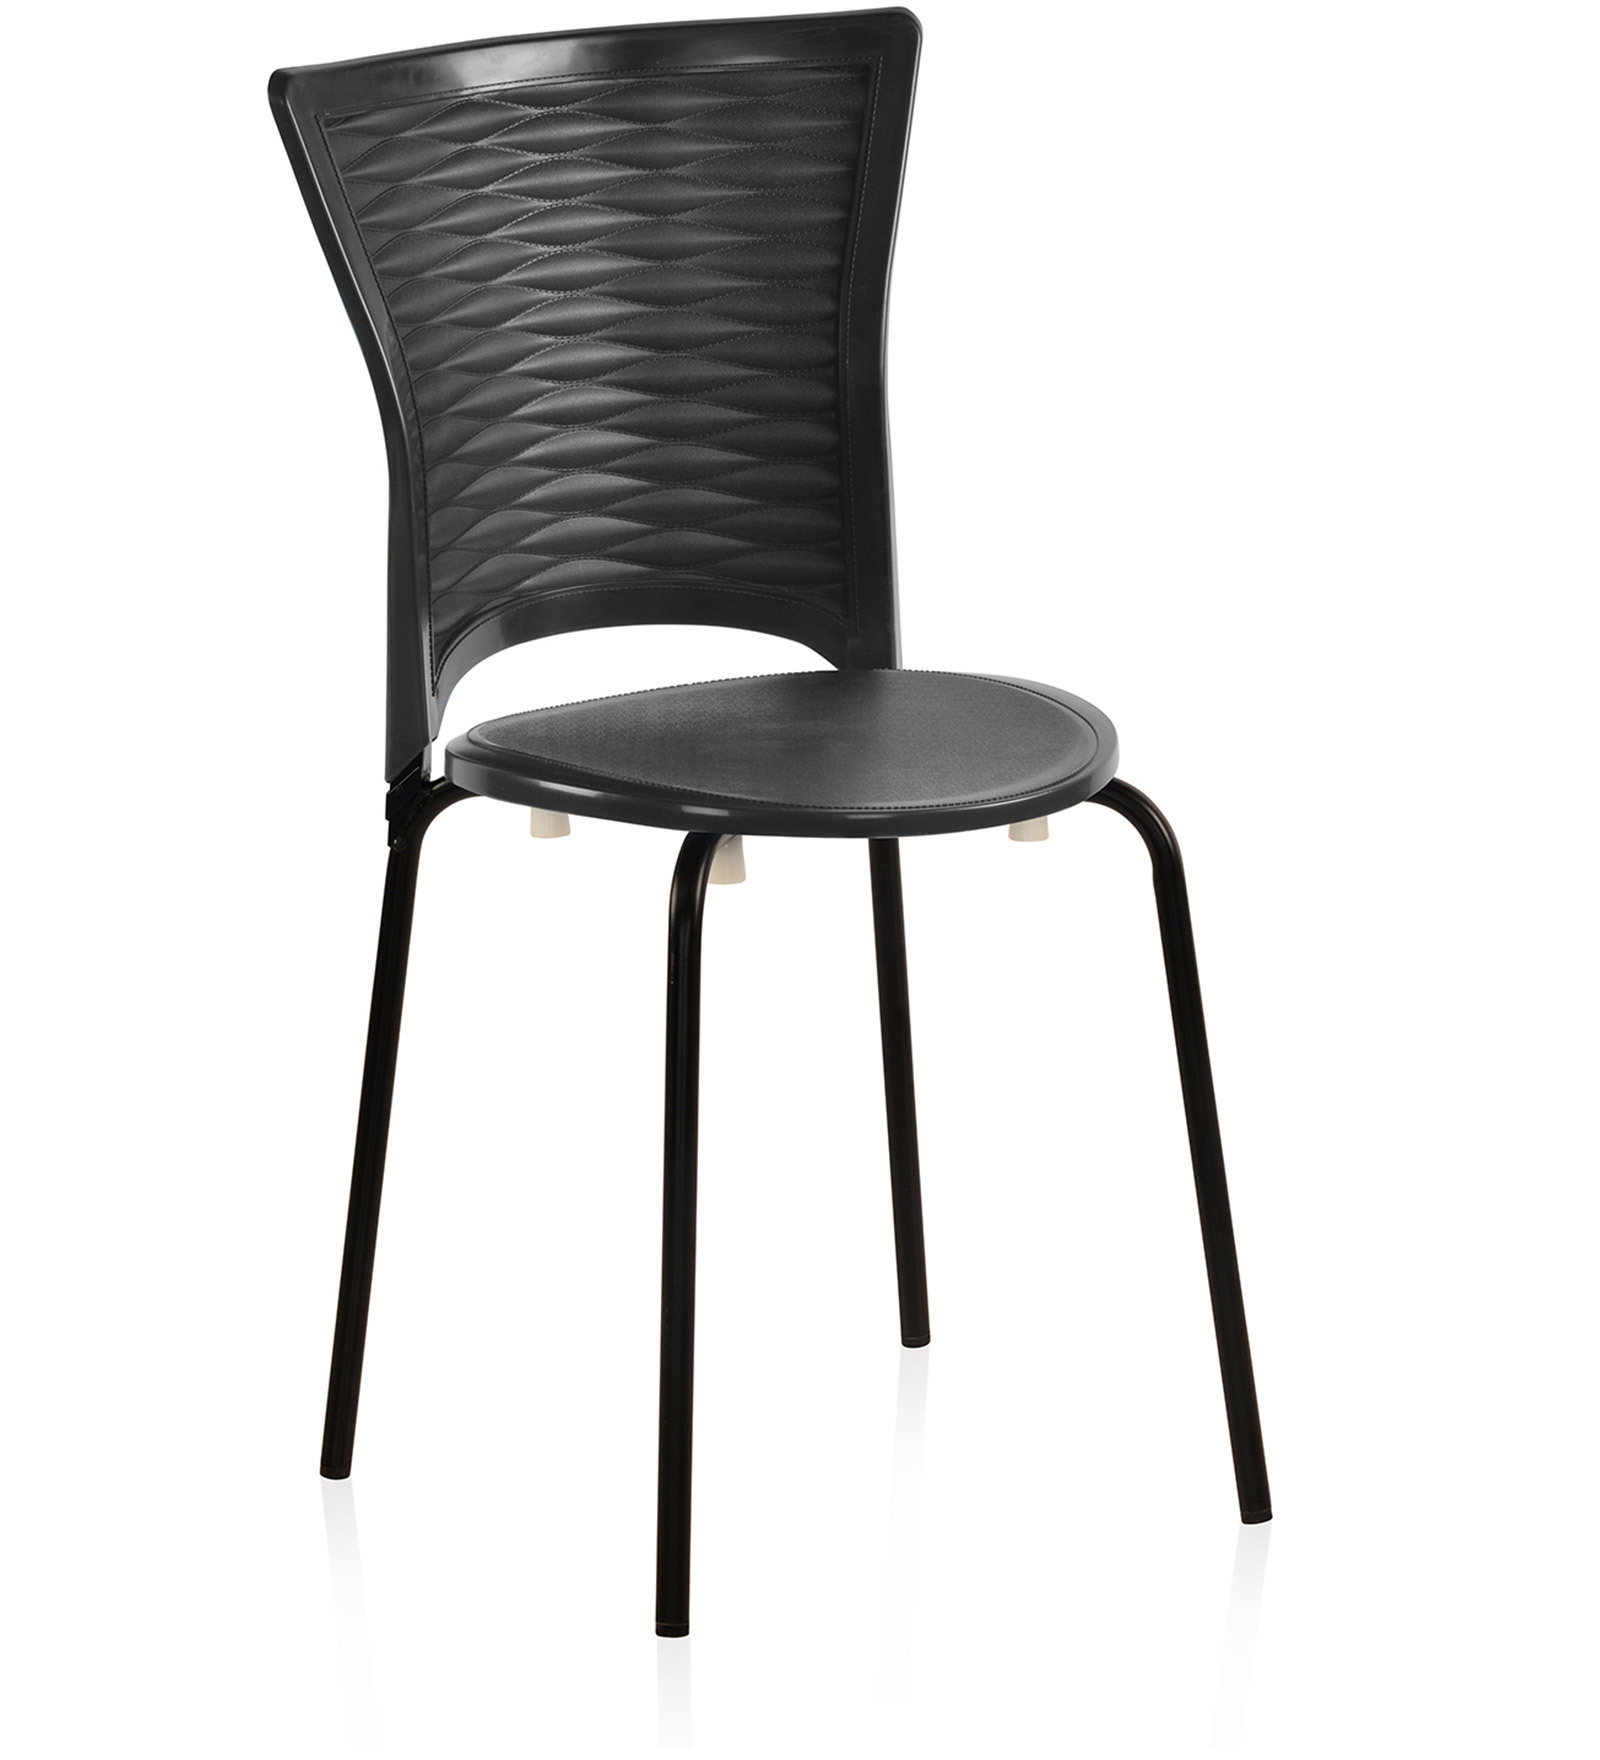Novella Series - 14 Chair (Set of 2) in Black Colour by Nilkamal: (257, 9, 1275, 1640)
